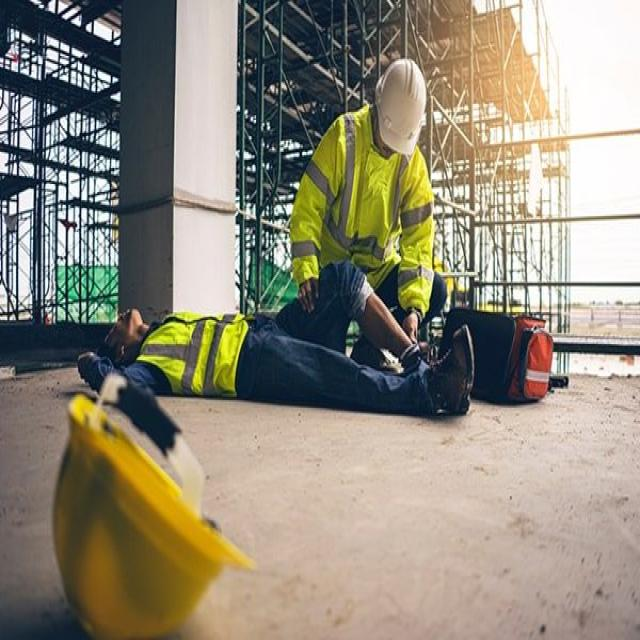shoes: (427, 316, 478, 418)
